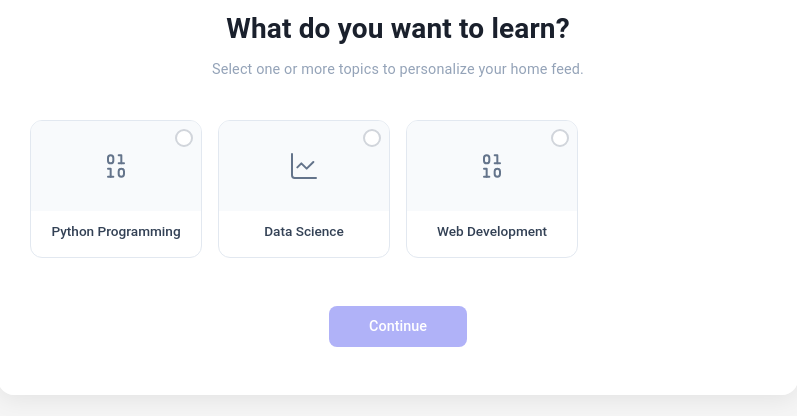
Test: InterestSelectionPage › continue button › should be enabled when at least one interest is selected
Expected: the heading "Python Programming" is shown, x1=51 y1=223 x2=181 y2=241
Expected: the button "Continue" is disabled, x1=329 y1=306 x2=467 y2=347
# Select an interest
Click the button "Python Programming" at (116, 189), box x1=30 y1=120 x2=202 y2=258
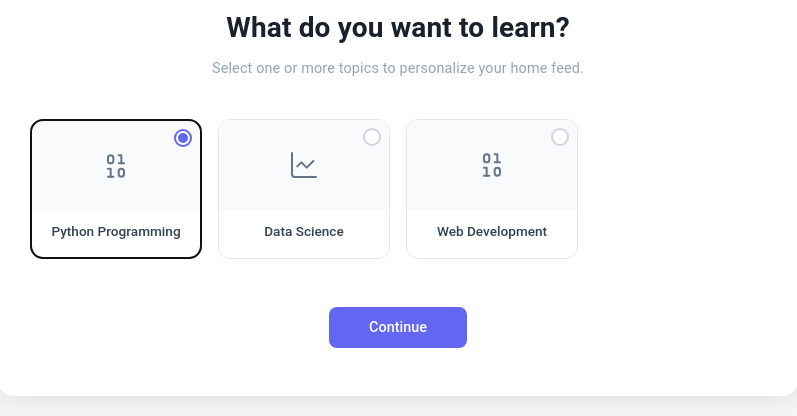
Expected: the button "Continue" is enabled, x1=329 y1=307 x2=467 y2=348
